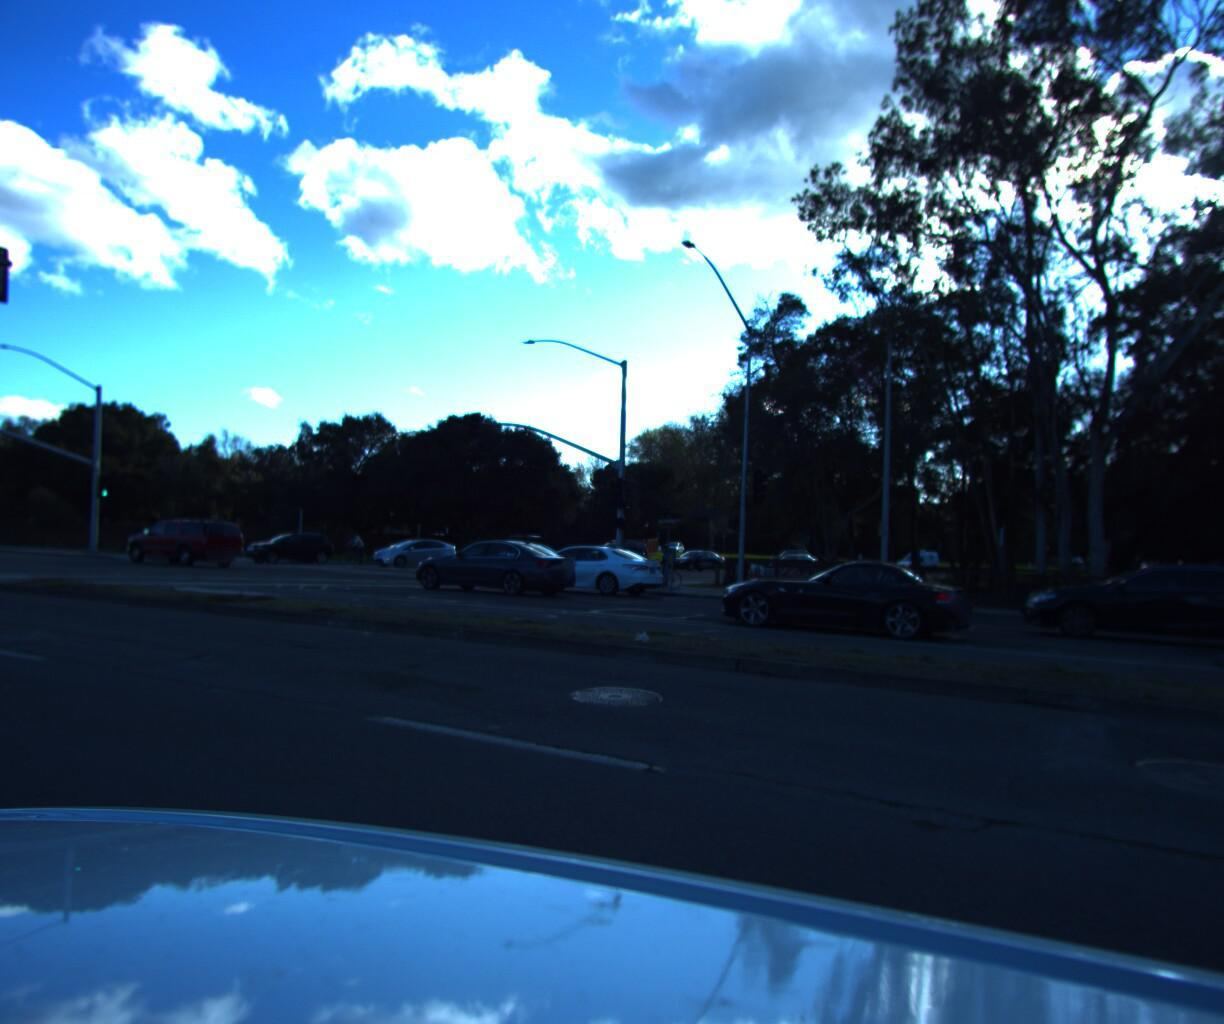bicycle: (327, 522, 378, 560)
car: (706, 535, 984, 643), (1015, 544, 1224, 654), (401, 530, 582, 593), (502, 533, 672, 594), (115, 509, 250, 562), (237, 523, 339, 559), (360, 529, 463, 562), (573, 527, 653, 565), (481, 535, 567, 565), (659, 542, 729, 566), (888, 540, 940, 565)
